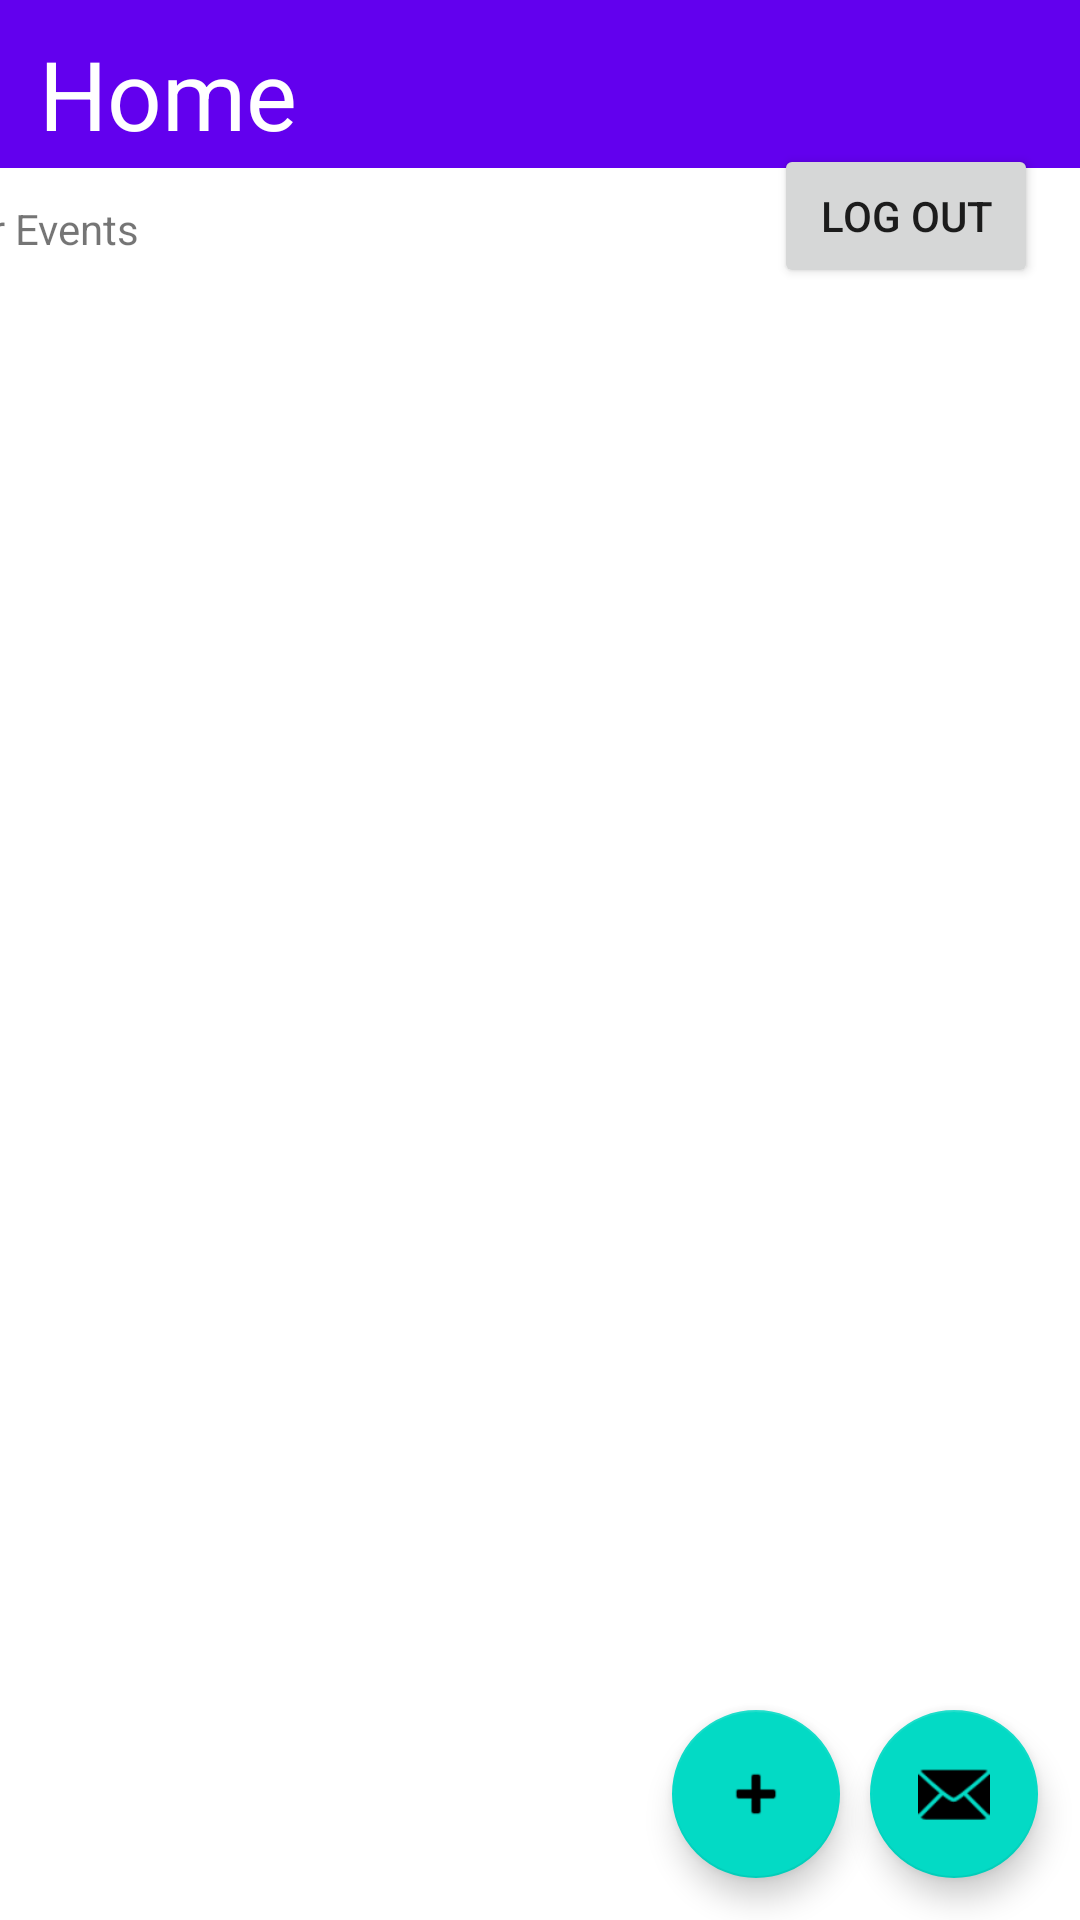

Named icons in this screenshot (1080px×1920px) and their bounding boxes, (x1, y1, x2, y2):
add: (672, 1710, 840, 1878)
email: (870, 1710, 1038, 1878)
